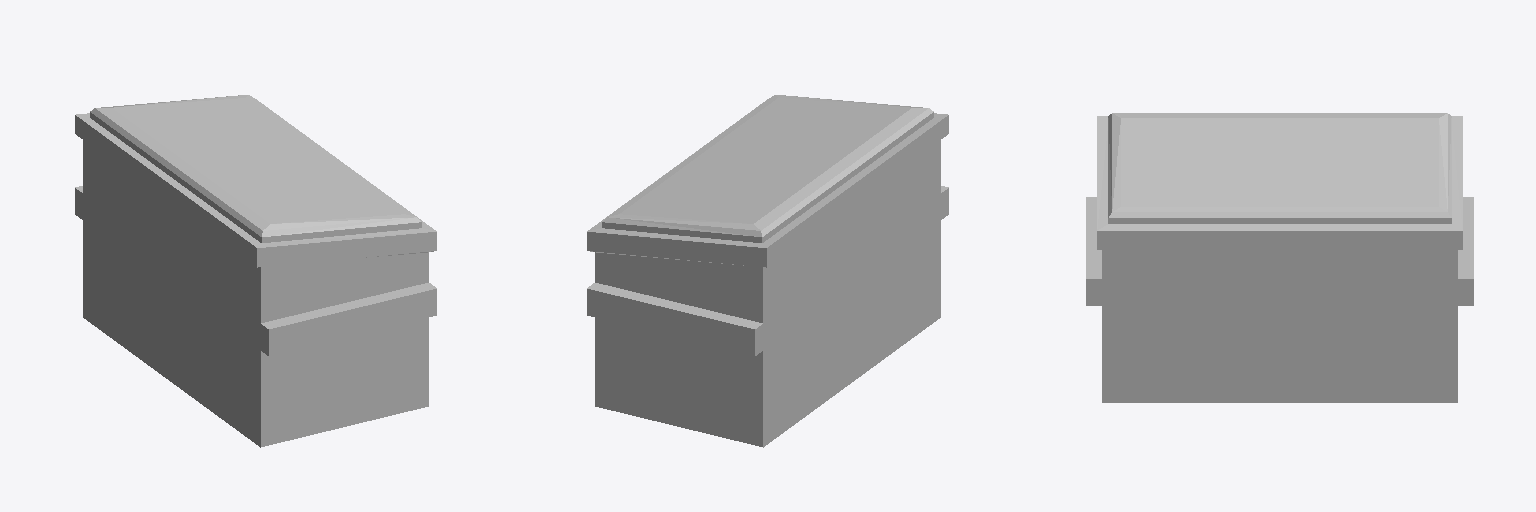
Rendered from tong_sampah_besar.obj.
3 renders of one model, left to right at view 1: azimuth 30°, elevation 25°; view 2: azimuth 150°, elevation 25°; view 3: azimuth 270°, elevation 25°, orthographic.
Parts seen in each view (by area): view 1: Dumpster_21; view 2: Dumpster_21; view 3: Dumpster_21.
Boxes of the visible parts, <box> form: Dumpster_21: <box>75,95,436,447</box>; Dumpster_21: <box>587,95,948,447</box>; Dumpster_21: <box>1086,113,1473,402</box>.
Bounding box in the file's own units: 3.12 × 3.51 × 5.83.